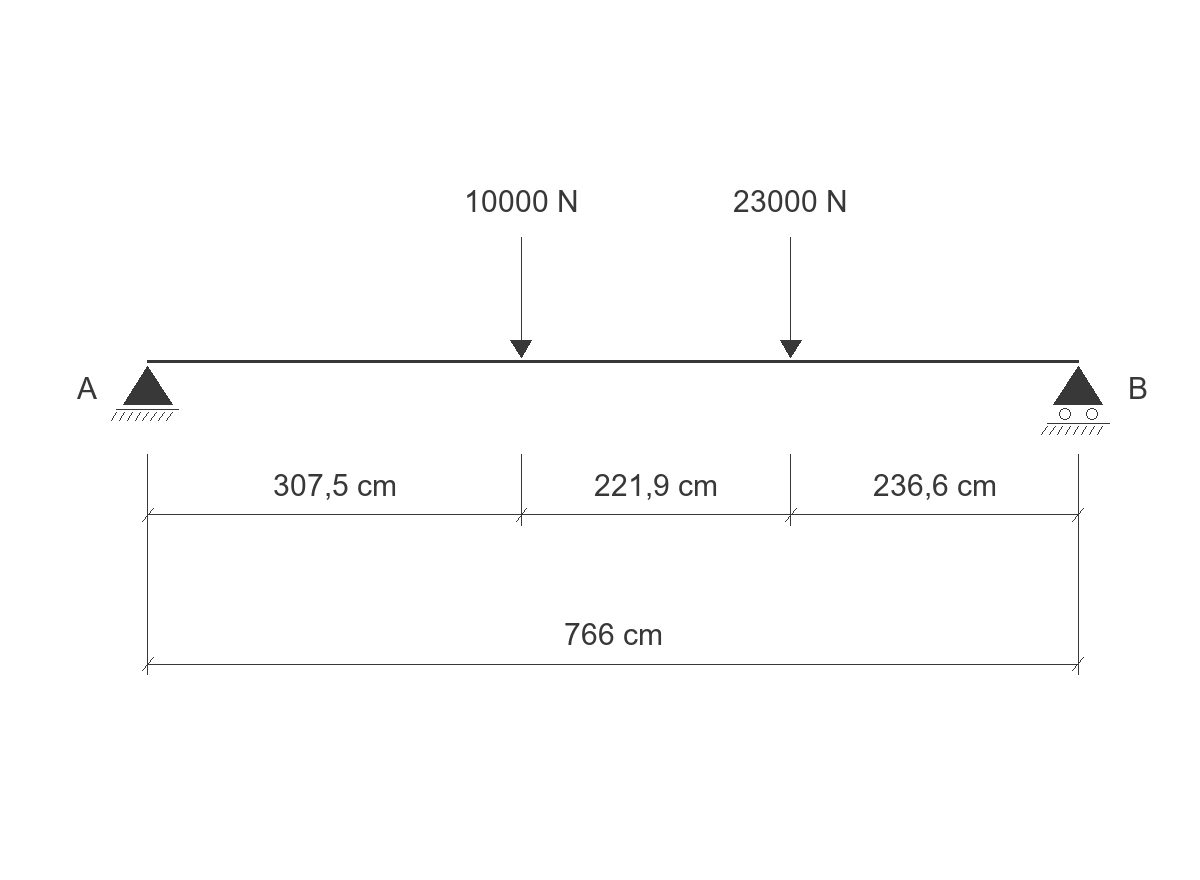pin_support: (111, 366, 179, 421)
point_load: (510, 237, 532, 358), (780, 237, 802, 358)
roller_support: (1041, 366, 1110, 435)
